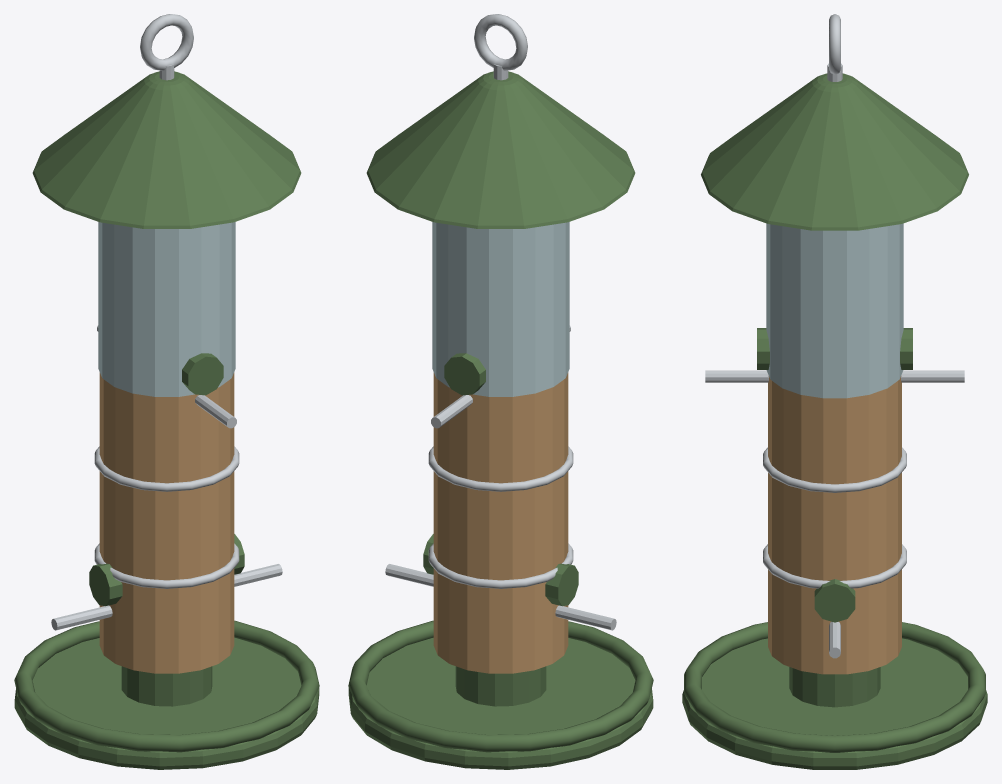
File: hh_cat_bird_feeder.glb
The picture shows the model from 3 angles, left to right: view 1: azimuth 30°, elevation 25°; view 2: azimuth 150°, elevation 25°; view 3: azimuth 270°, elevation 25°; orthographic projection.
Visible parts, largest first — view 1: seed, roof, feeder_tube, seed_dish, dish_rim, feeder_foot, hanger_loop, tube_band.001, tube_band, perch, feed_port.002, feed_port (+1 smaller); view 2: seed, roof, feeder_tube, seed_dish, dish_rim, feeder_foot, hanger_loop, tube_band.001, tube_band, perch, feed_port.003, feed_port (+1 smaller); view 3: seed, roof, feeder_tube, seed_dish, dish_rim, feeder_foot, perch.001, tube_band.001, feed_port.001, tube_band, hanger_loop.
Boxes of the visible parts, <box> form: seed: <box>99,372,234,673</box>; roof: <box>32,71,301,228</box>; feeder_tube: <box>98,222,235,396</box>; seed_dish: <box>14,637,319,769</box>; dish_rim: <box>14,620,319,752</box>; feeder_foot: <box>121,666,212,706</box>; hanger_loop: <box>140,14,193,70</box>; tube_band.001: <box>94,446,239,491</box>; tube_band: <box>94,543,239,588</box>; perch: <box>51,564,282,630</box>; feed_port.002: <box>182,353,223,395</box>; feed_port: <box>89,563,122,606</box>; seed: <box>433,372,568,673</box>; roof: <box>366,71,635,228</box>; feeder_tube: <box>432,222,569,396</box>; seed_dish: <box>348,637,653,769</box>; dish_rim: <box>348,620,653,752</box>; feeder_foot: <box>455,666,546,706</box>; hanger_loop: <box>474,14,527,70</box>; tube_band.001: <box>428,446,573,491</box>; tube_band: <box>428,543,573,588</box>; perch: <box>385,564,616,630</box>; feed_port.003: <box>444,353,485,395</box>; feed_port: <box>545,563,578,606</box>; seed: <box>768,376,901,674</box>; roof: <box>701,73,968,230</box>; feeder_tube: <box>766,223,903,398</box>; seed_dish: <box>682,638,987,769</box>; dish_rim: <box>684,622,985,752</box>; feeder_foot: <box>789,667,880,707</box>; perch.001: <box>705,370,964,382</box>; tube_band.001: <box>763,447,906,492</box>; feed_port.001: <box>814,579,855,622</box>; tube_band: <box>763,544,906,588</box>; hanger_loop: <box>829,14,840,74</box>.
Size of the model in its own units: 0.2 by 0.5 by 0.2.
